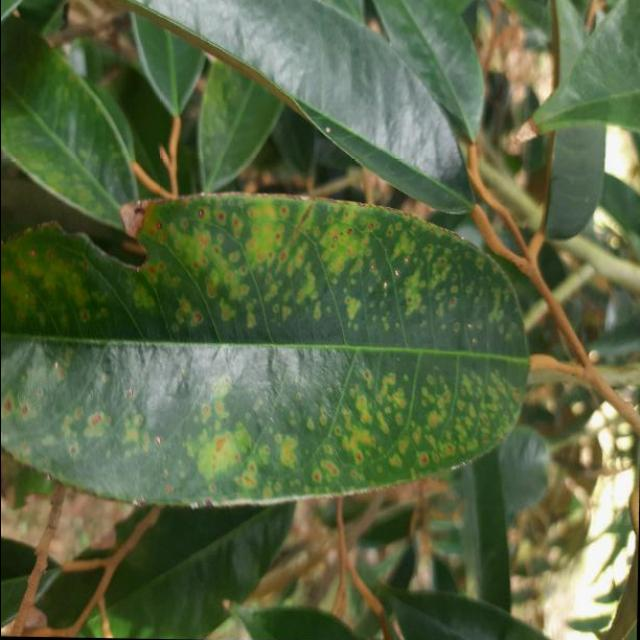Leaf Spot: (0, 166, 544, 522)
